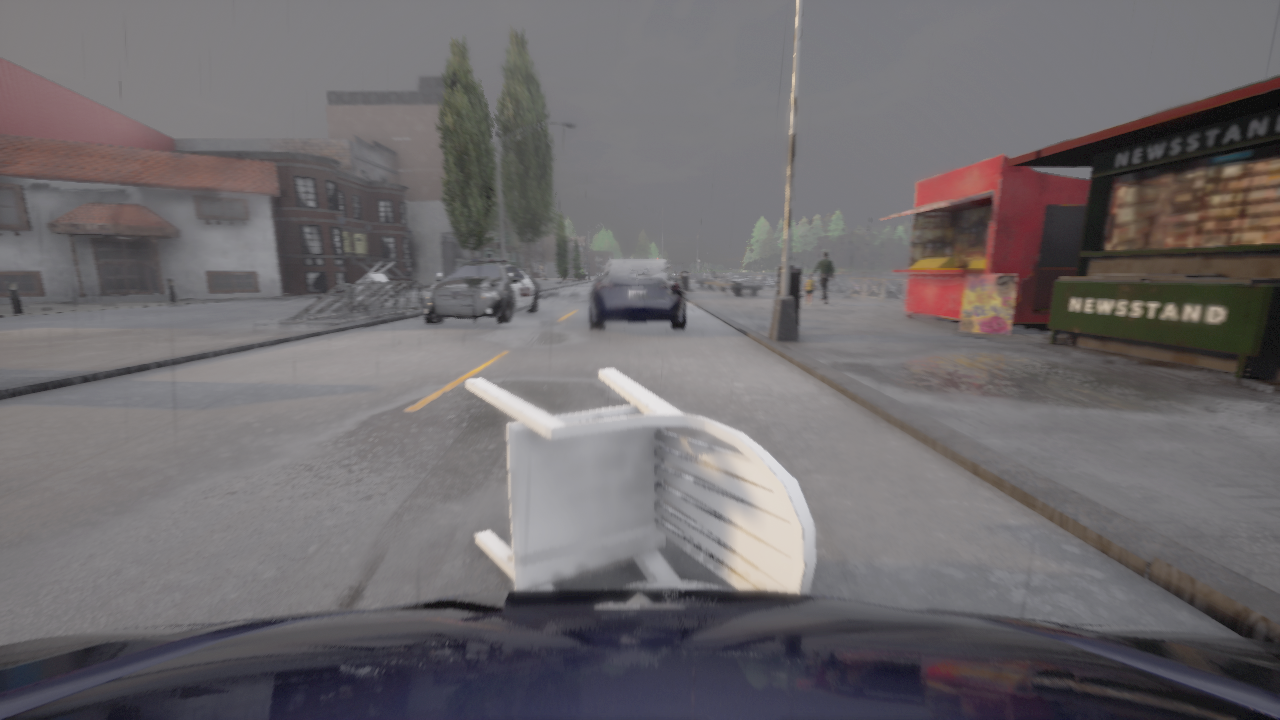cyclist: (0, 588, 1279, 719), (421, 259, 539, 324), (589, 259, 686, 329)
pedestrian: (813, 252, 834, 304), (804, 273, 815, 305)
